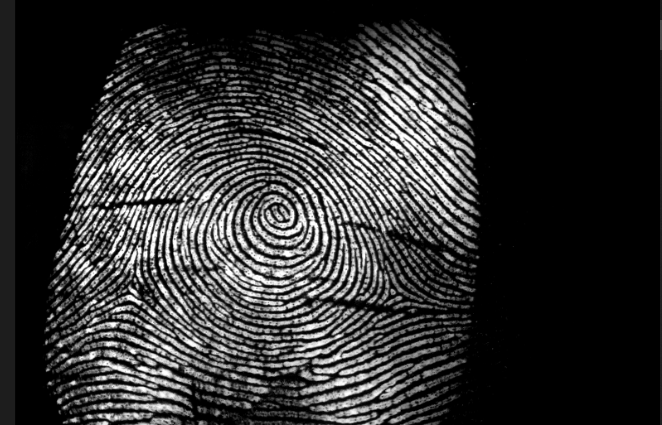deltas: (367, 265, 424, 320), (106, 260, 155, 312)
nucleo: (255, 184, 301, 238)
